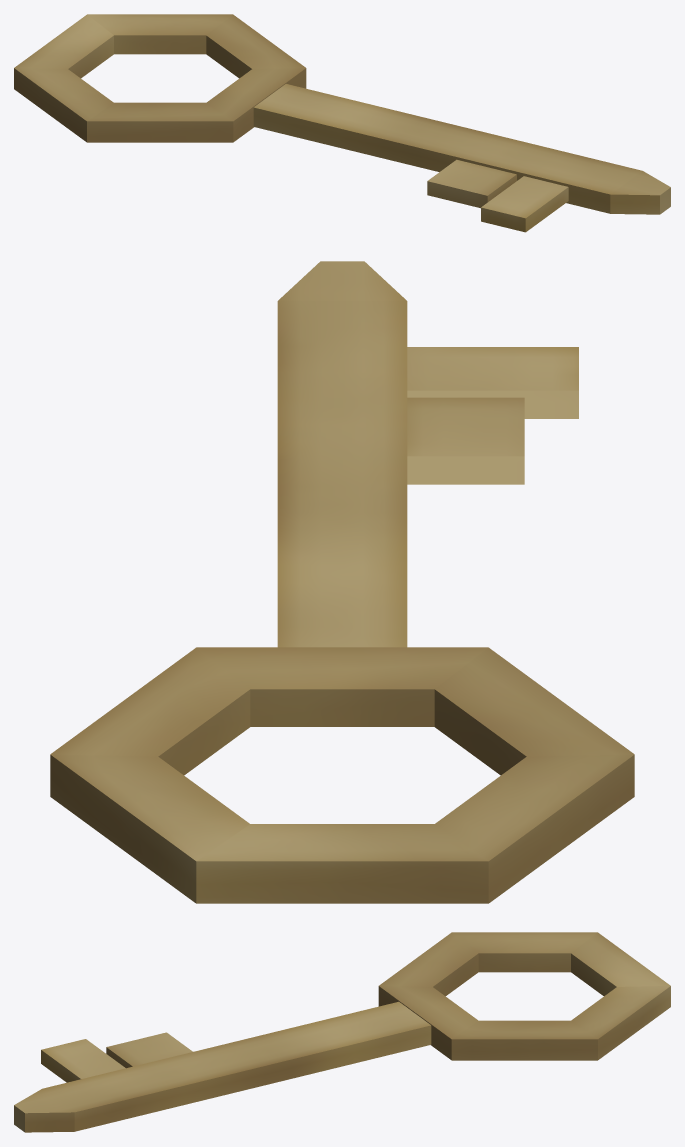
Rendered from Key.fbx.
The picture shows the model from 3 angles, top to bottom: view 1: azimuth 30°, elevation 25°; view 2: azimuth 150°, elevation 25°; view 3: azimuth 270°, elevation 25°; orthographic projection. The views are drawn at different scales.
Visible parts, largest first — view 1: Key; view 2: Key; view 3: Key.
Boxes of the visible parts, x1,y1,x2,y2 form: Key: [14, 14, 670, 232]; Key: [50, 261, 634, 903]; Key: [14, 932, 670, 1132].
Size of the model in its own units: 10.53 by 0.5747 by 16.16.
